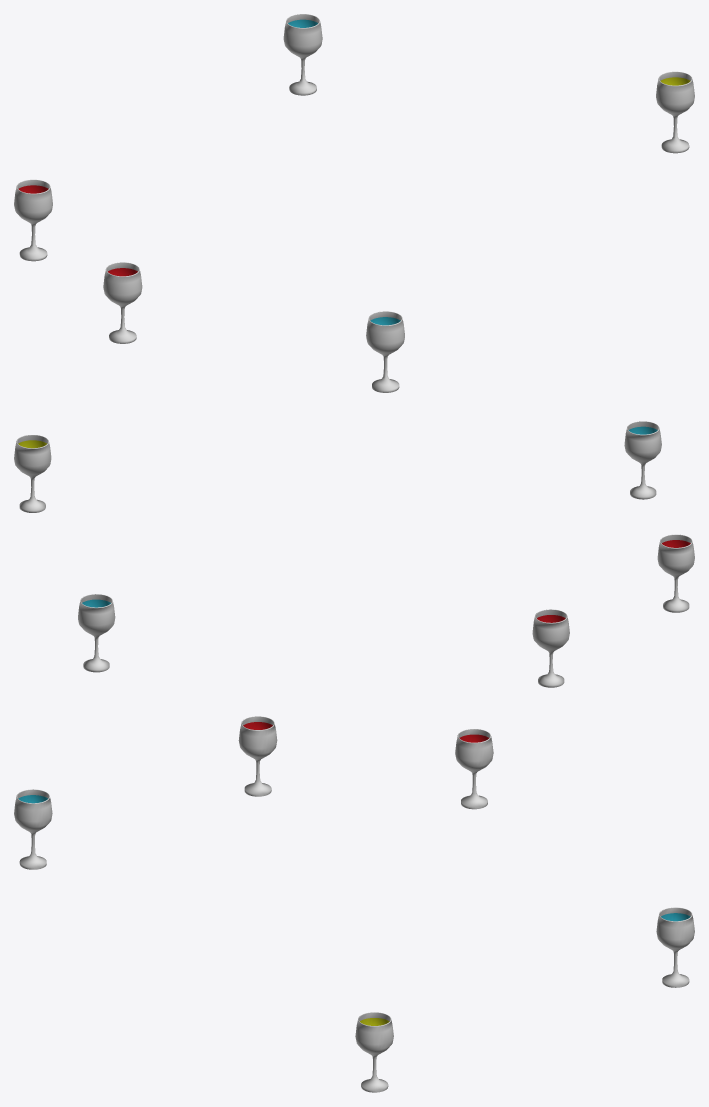
Rendered from Taça(1).fbx.
3 renders of one model, top to bottom at view 1: azimuth 30°, elevation 25°; view 2: azimuth 150°, elevation 25°; view 3: azimuth 270°, elevation 25°, orthographic. The views are drawn at different scales.
Parts seen in each view (by area): view 1: Cylinder.002; view 2: Cylinder.002; view 3: Cylinder.002.
Part boxes in pixels (<box>): Cylinder.002: <box>14,14,694,392</box>; Cylinder.002: <box>14,421,694,687</box>; Cylinder.002: <box>14,716,694,1092</box>.
Size of the model in its own units: 1443 by 153 by 1339.
